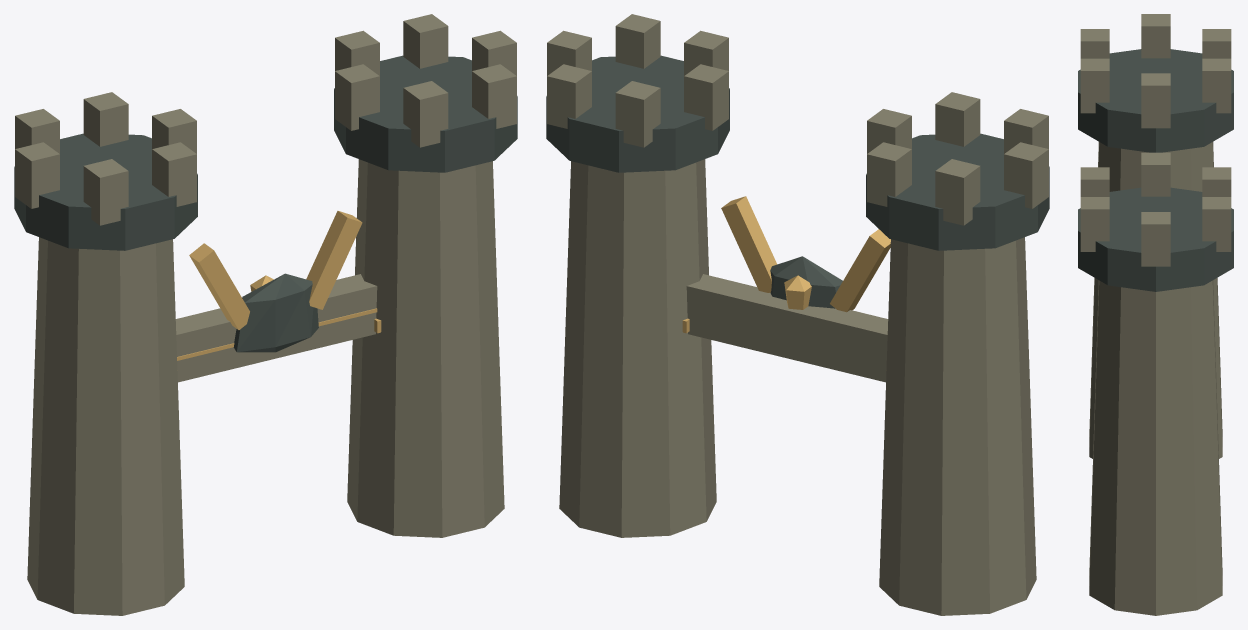
File: Landmark_IronLowlands.glb
3 renders of one model, left to right at view 1: azimuth 30°, elevation 25°; view 2: azimuth 150°, elevation 25°; view 3: azimuth 270°, elevation 25°, orthographic. The views are drawn at different scales.
Visible parts, largest first — view 1: Landmark_IronLowlands_IronLowlands_stone_0_5, Landmark_IronLowlands_IronLowlands_stone_-1_5, Landmark_IronLowlands_IronLowlands_dark_0_5, Landmark_IronLowlands_IronLowlands_dark_-1_5, Landmark_IronLowlands_IronLowlands_accent_0_5, Landmark_IronLowlands_IronLowlands_accent_-1_5; view 2: Landmark_IronLowlands_IronLowlands_stone_0_5, Landmark_IronLowlands_IronLowlands_stone_-1_5, Landmark_IronLowlands_IronLowlands_dark_0_5, Landmark_IronLowlands_IronLowlands_dark_-1_5, Landmark_IronLowlands_IronLowlands_accent_-1_5, Landmark_IronLowlands_IronLowlands_accent_0_5; view 3: Landmark_IronLowlands_IronLowlands_stone_0_5, Landmark_IronLowlands_IronLowlands_stone_-1_5, Landmark_IronLowlands_IronLowlands_dark_-1_5, Landmark_IronLowlands_IronLowlands_dark_0_5.
Boxes of the visible parts, x1,y1,x2,y2 form: Landmark_IronLowlands_IronLowlands_stone_0_5: [175, 14, 516, 537]; Landmark_IronLowlands_IronLowlands_stone_-1_5: [15, 92, 196, 615]; Landmark_IronLowlands_IronLowlands_dark_0_5: [233, 55, 517, 352]; Landmark_IronLowlands_IronLowlands_dark_-1_5: [14, 133, 197, 250]; Landmark_IronLowlands_IronLowlands_accent_0_5: [177, 211, 381, 360]; Landmark_IronLowlands_IronLowlands_accent_-1_5: [189, 243, 273, 329]; Landmark_IronLowlands_IronLowlands_stone_0_5: [547, 14, 888, 537]; Landmark_IronLowlands_IronLowlands_stone_-1_5: [867, 92, 1048, 615]; Landmark_IronLowlands_IronLowlands_dark_0_5: [546, 55, 842, 308]; Landmark_IronLowlands_IronLowlands_dark_-1_5: [866, 133, 1049, 250]; Landmark_IronLowlands_IronLowlands_accent_-1_5: [784, 229, 890, 312]; Landmark_IronLowlands_IronLowlands_accent_0_5: [682, 196, 777, 333]; Landmark_IronLowlands_IronLowlands_stone_0_5: [1080, 152, 1231, 615]; Landmark_IronLowlands_IronLowlands_stone_-1_5: [1080, 14, 1231, 458]; Landmark_IronLowlands_IronLowlands_dark_-1_5: [1078, 49, 1233, 152]; Landmark_IronLowlands_IronLowlands_dark_0_5: [1078, 187, 1233, 291].
Bounding box in the file's own units: 85 × 75 × 26.63.
